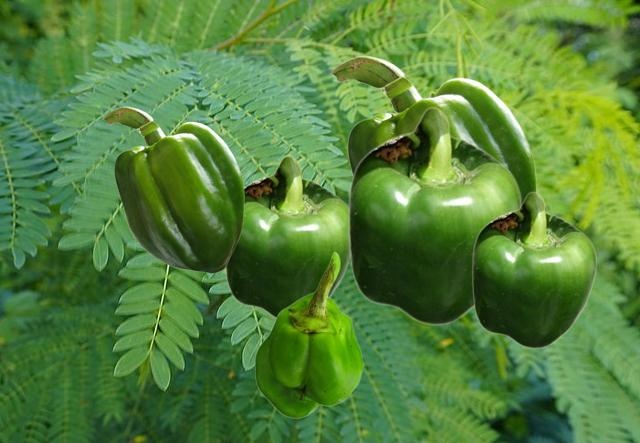bell_pepper: (347, 106, 521, 325), (330, 55, 535, 200), (102, 106, 243, 272), (225, 155, 349, 318), (471, 191, 596, 348), (254, 251, 362, 417)
